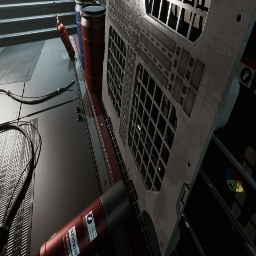FireExtinguisher ]: (57, 13, 75, 59)
NitrogenTank ,: (35, 179, 131, 256)
